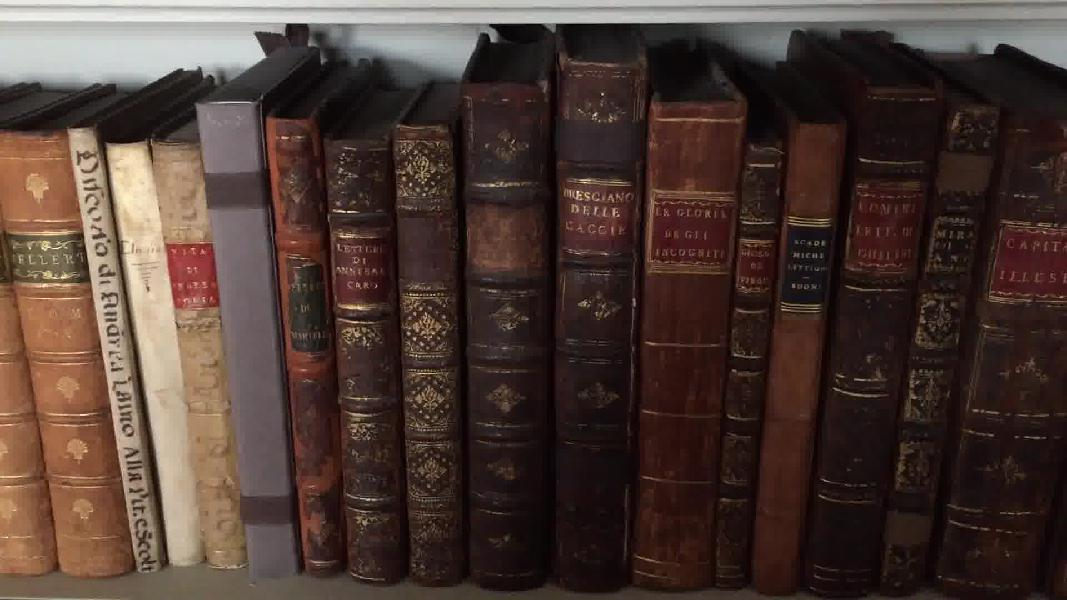Aa6-24: (62, 117, 175, 579)
Aa6-25: (96, 127, 211, 573)
Aa6-26: (146, 121, 258, 570)
Aa6-27: (193, 88, 301, 578)
Aa6-28: (254, 112, 346, 571)
Aa6-29: (319, 127, 416, 598)
Aa6-30: (382, 108, 469, 581)
Aa6-31: (462, 65, 552, 597)
Aa6-32: (544, 43, 659, 600)
Aa6-33: (639, 77, 746, 596)
Aa6-34: (708, 120, 782, 597)
Aa6-35: (770, 84, 843, 588)
Aa6-36: (806, 40, 925, 600)
Aa6-37: (879, 81, 1000, 597)
Aa6-38: (931, 57, 1065, 600)
